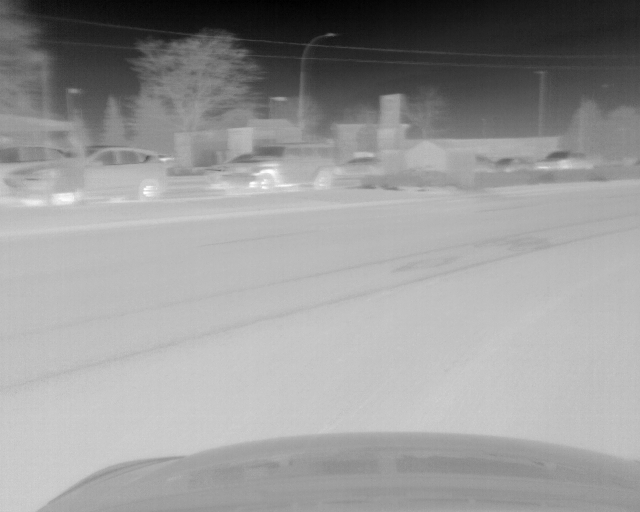car: (226, 141, 334, 191), (1, 145, 83, 206), (80, 147, 168, 201)
